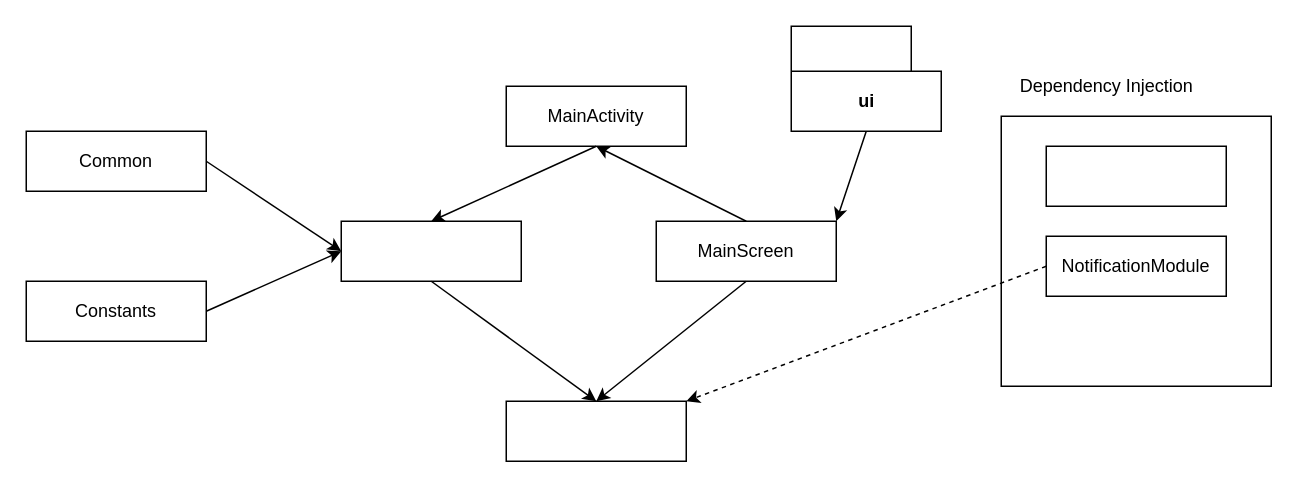
The diagram is 1298 pixels wide and 488 high, and some of its shapes have lost their labels. The shapes that lost their labels are listed below. From the top down, each one's centre as x and y in pixels, then its label:
At (1135,175): "HiltAppliation".
At (430,250): "StopCounterService".
At (595,430): "ServiceHelper".
